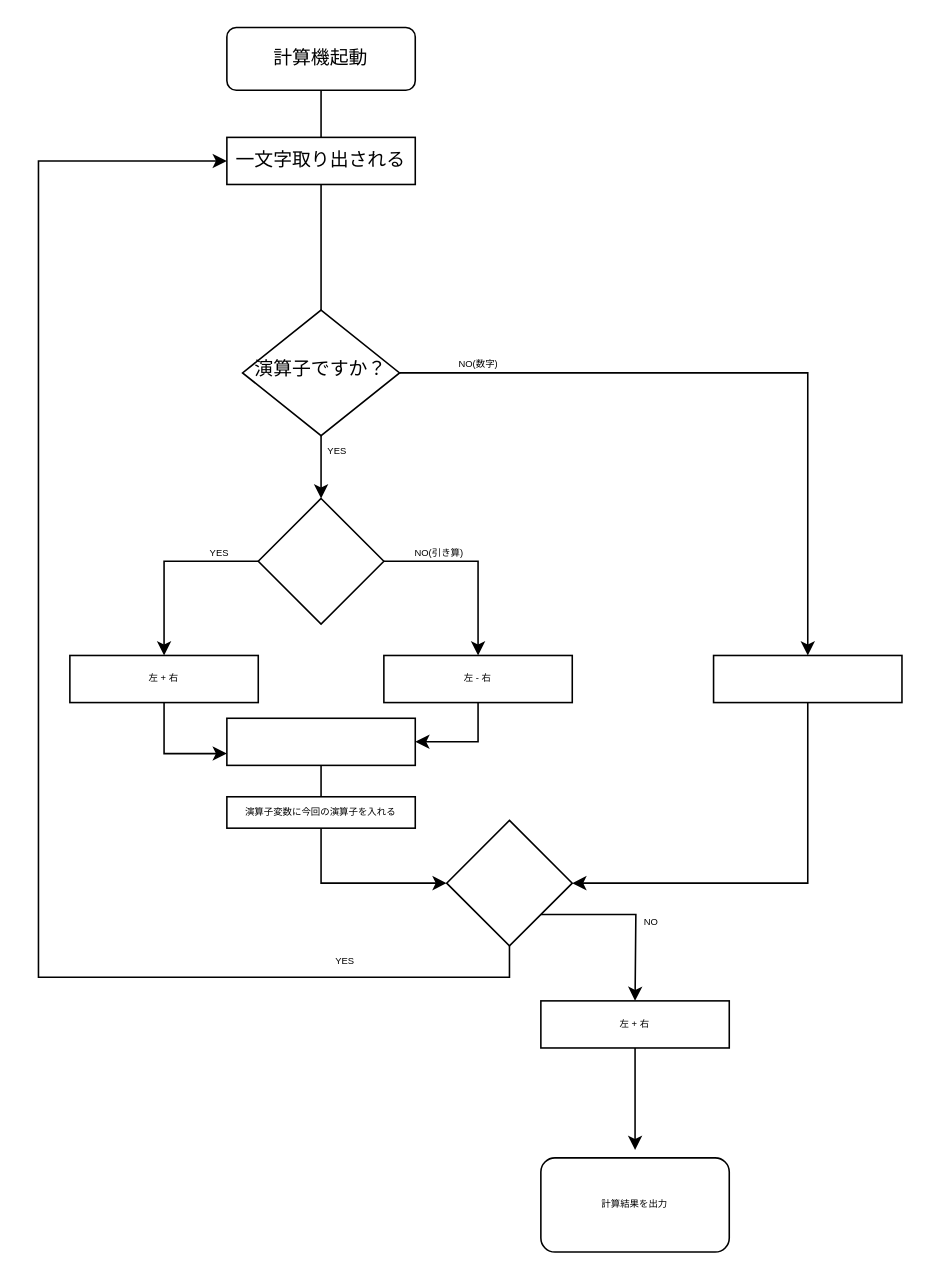
The diagram is 929 pixels wide and 1280 high, and some of its shapes have lost their labels. Here are the shapes that lost their labels. From the top down, the centre of each, then its label:
At (320,560): "前に保存していた変数は 足し算？".
At (807,678): "右に数字を格納する".
At (320,741): "計算結果を左に代入".
At (508,882): "まだ式は残っている？".
